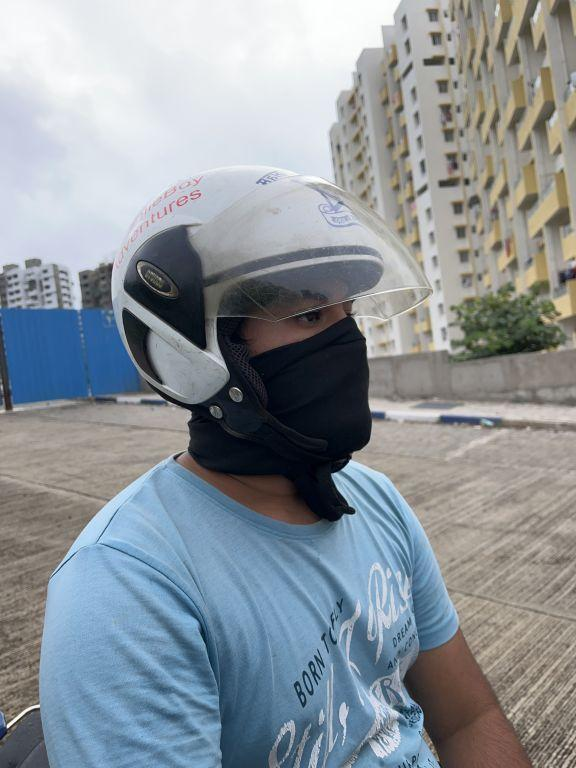helmet: (100, 147, 430, 489)
